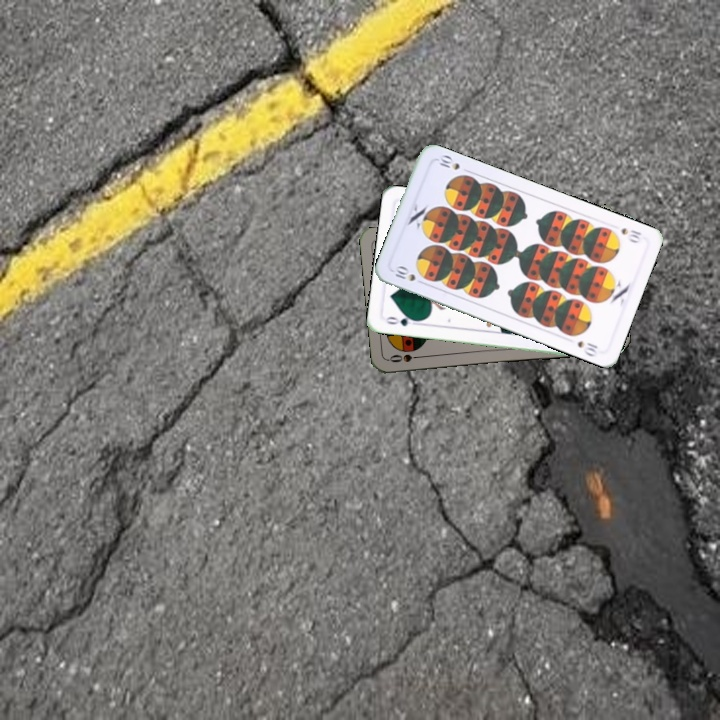GO: (382, 311, 422, 329)
S10: (391, 262, 428, 287), (617, 224, 644, 246)
SO: (386, 350, 426, 365)
